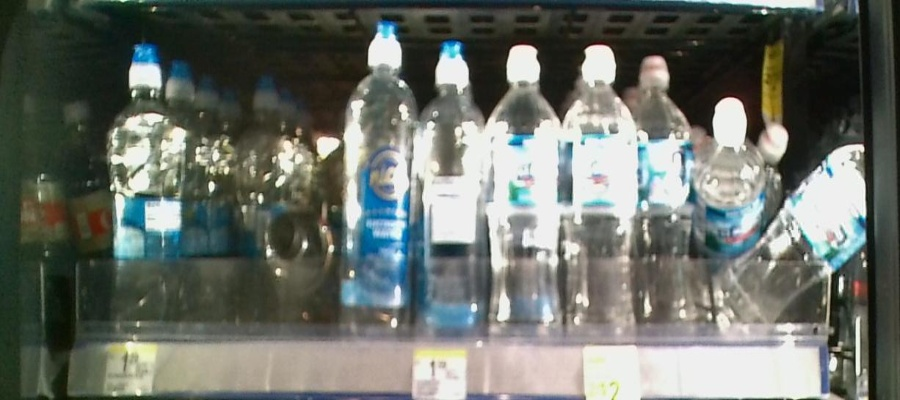bottle: (489, 30, 565, 335), (106, 37, 181, 342), (343, 14, 413, 331), (568, 35, 636, 333), (419, 40, 487, 333), (641, 55, 696, 333), (262, 200, 333, 314)
